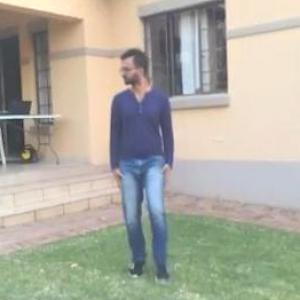follow: (103, 33, 186, 299)
